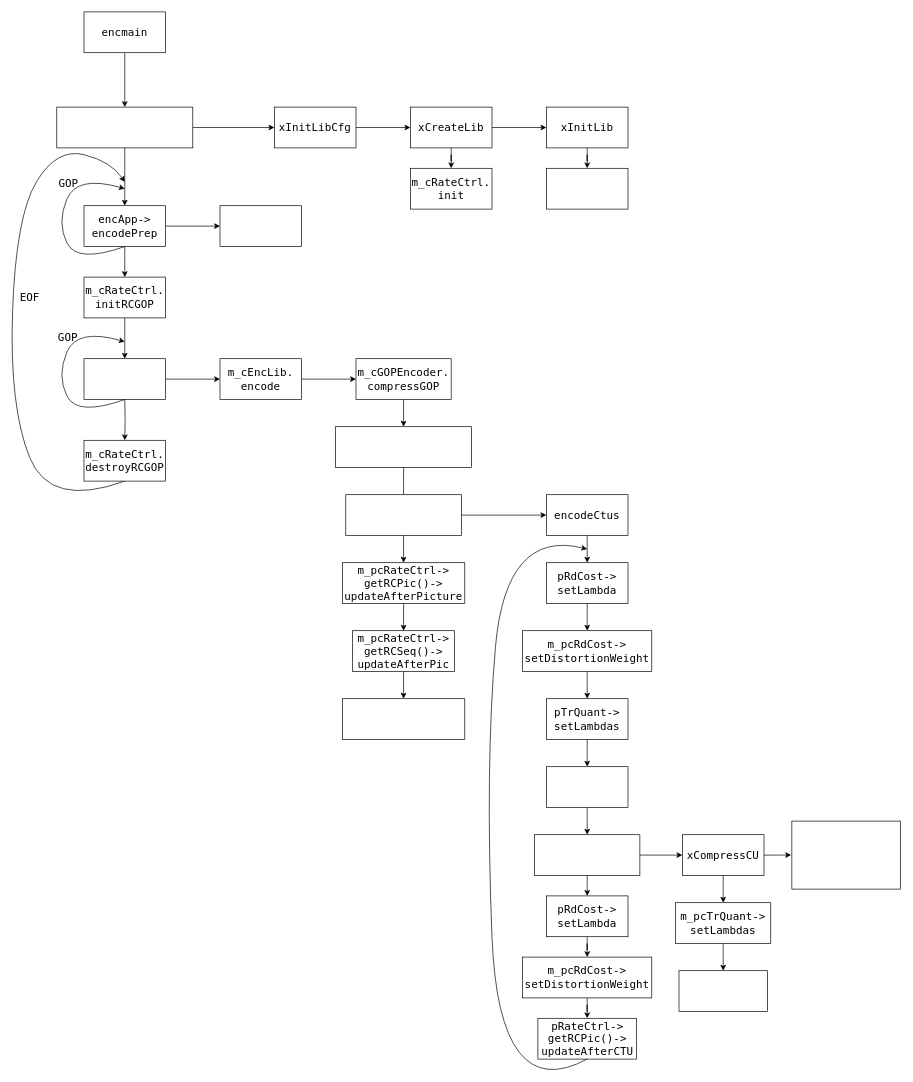
The diagram is 913 pixels wide and 1082 high, and some of its shapes have lost their labels. Here are the shapes that lost their labels. From the top down, the box of each, then its label:
(56, 106, 193, 148): pcEncApp->createLib
(546, 168, 628, 209): m_cRateCtrl. initHrdParam
(219, 205, 302, 247): m_cEncLib. encodePrep
(83, 358, 166, 400): encApp-> encode
(335, 426, 472, 468): xPicInitRateControl
(345, 494, 461, 536): m_pcSliceEncoder ->compressSlice
(342, 698, 465, 740): m_pcRateCtrl-> getRCGOP()-> updateAfterPicture
(546, 766, 628, 808): pRateCtrl-> setRCQP
(534, 834, 640, 876): m_pcCuEncoder-> compressCtu
(791, 820, 901, 889): calculate: m_pcRateCtrl-> getRCPic()-> getLCU(). m_actualMSR
(678, 970, 767, 1012): m_pcRdCost-> setLambda
